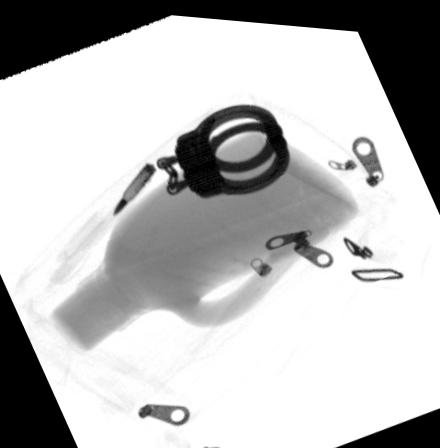Bullet: (113, 160, 156, 215)
HandCuffs: (155, 98, 290, 197)
